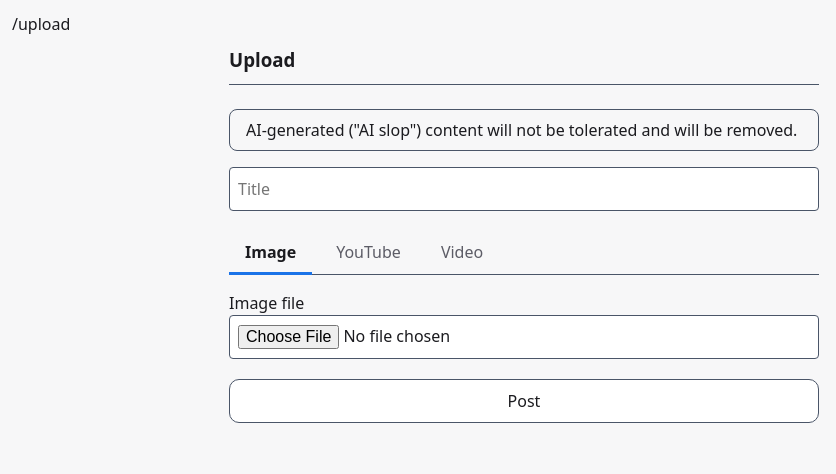
Test: UploadPage › announces a form-level error when the session expired
Step 1. Click the tab "YouTube" → (369, 253), box [320, 231, 417, 275]
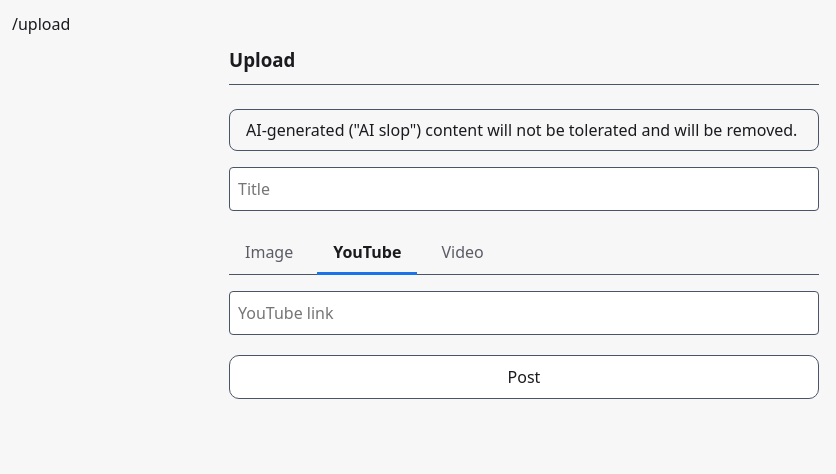
Step 2. Type "My clip" into the field labelled "Title" → (524, 189), box [229, 167, 819, 211]
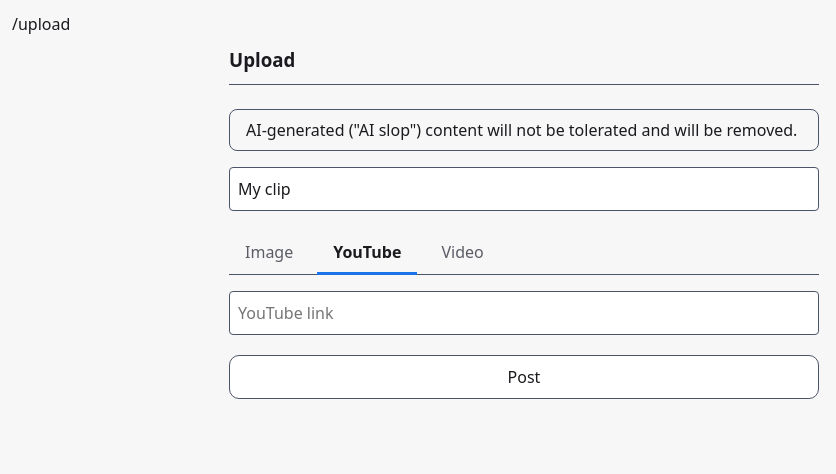
Step 3. Type "dQw4w9WgXcQ" into the field labelled "YouTube link" → (524, 313), box [229, 291, 819, 335]
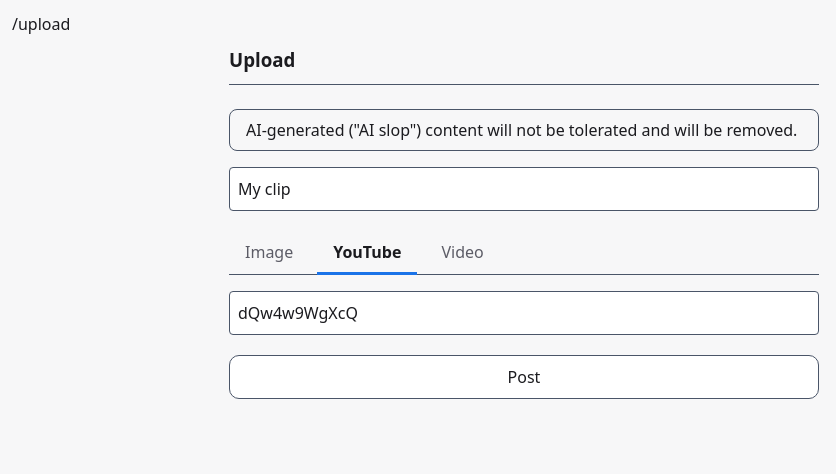
Step 4. Click the button "Post" → (524, 377), box [229, 355, 819, 399]
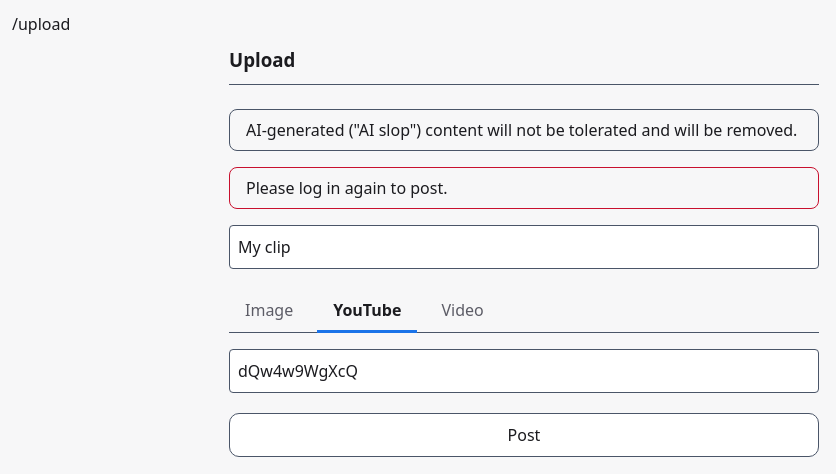
Result: the message "Please log in again to post." is shown at [229, 167, 819, 209]
Result: the message shows "log in again" at [246, 177, 448, 199]
